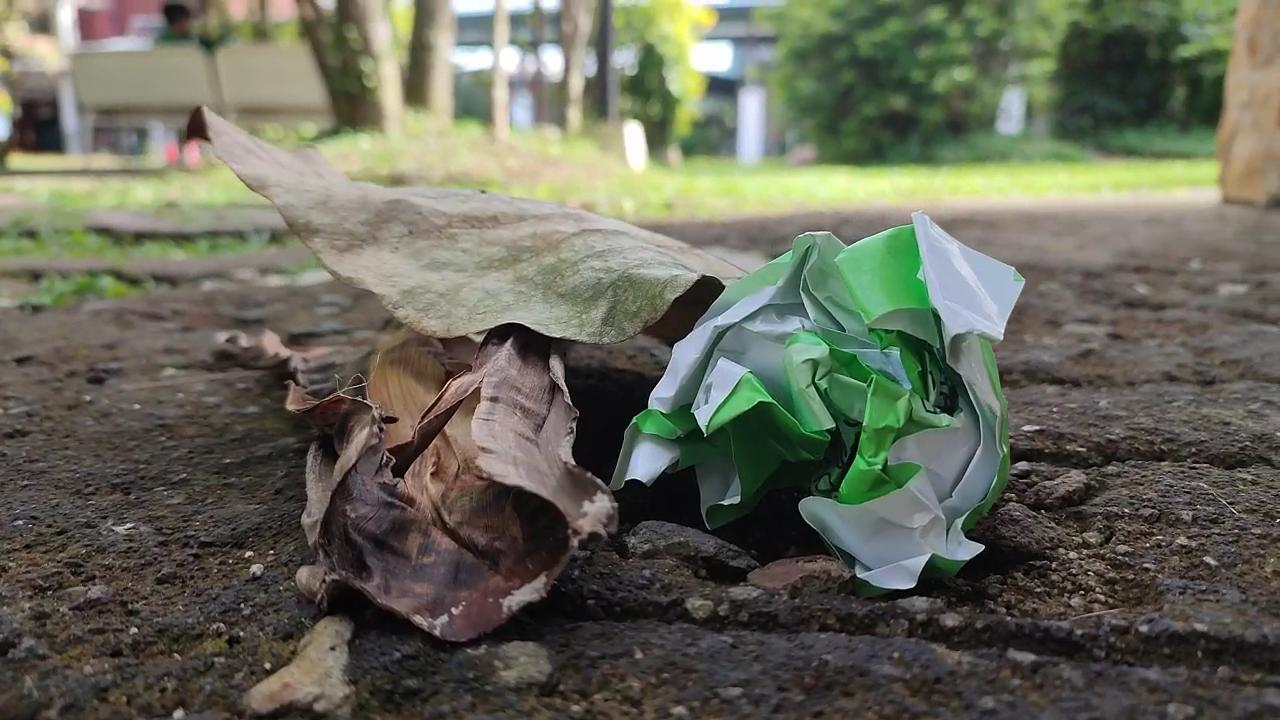Paper: (623, 180, 1026, 600)
